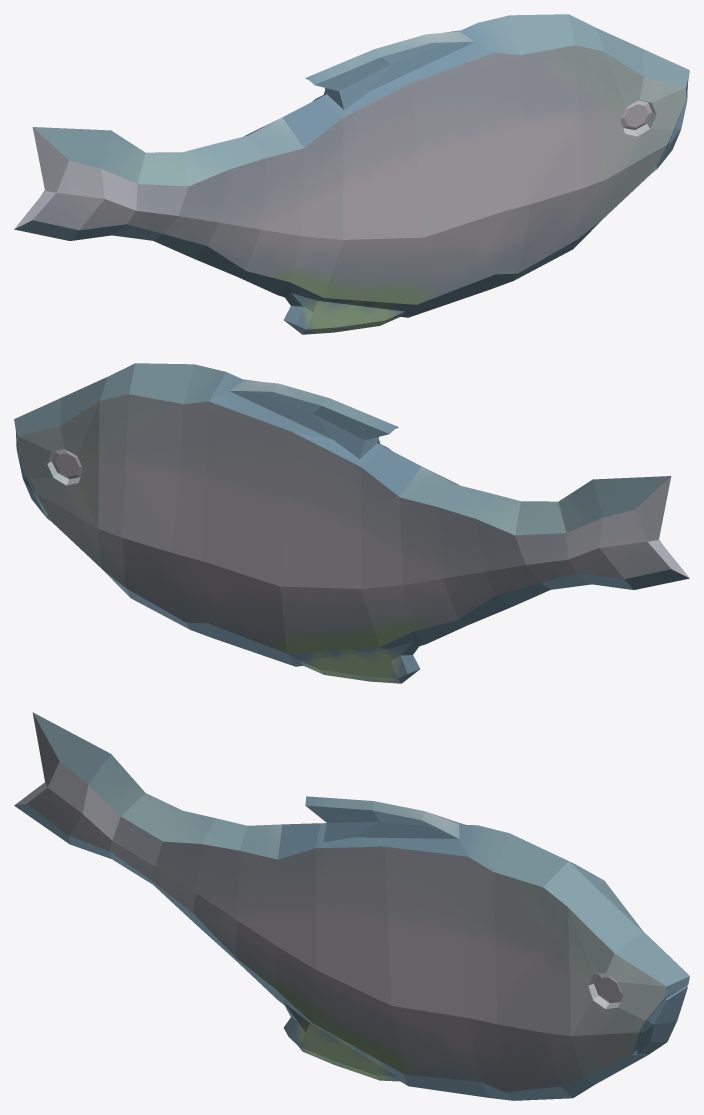
File: Chromis_atrilobata.glb
3 renders of one model, top to bottom at view 1: azimuth 30°, elevation 25°; view 2: azimuth 150°, elevation 25°; view 3: azimuth 330°, elevation 25°, orthographic.
Parts seen in each view (by area): view 1: FishV1; view 2: FishV1; view 3: FishV1.
Part boxes in pixels (box(x1,y1,x2,y2)): FishV1: box(14, 14, 689, 334); FishV1: box(14, 363, 689, 683); FishV1: box(14, 712, 689, 1100).
Bounding box in the file's own units: 0.7706 × 0.3091 × 0.0722.
1 material, 1 textured.
